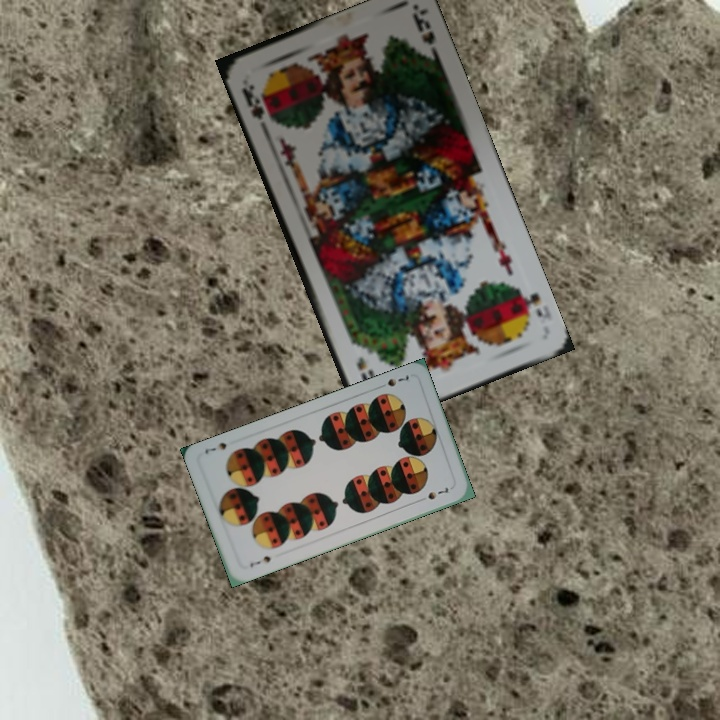S7: (374, 370, 412, 391), (246, 552, 273, 570)
SK: (237, 80, 276, 125), (513, 284, 545, 329)
